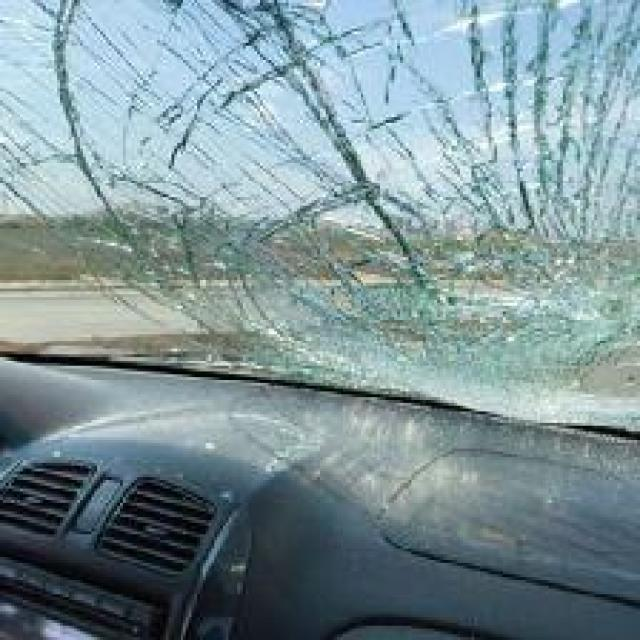damaged: (5, 6, 638, 414)
